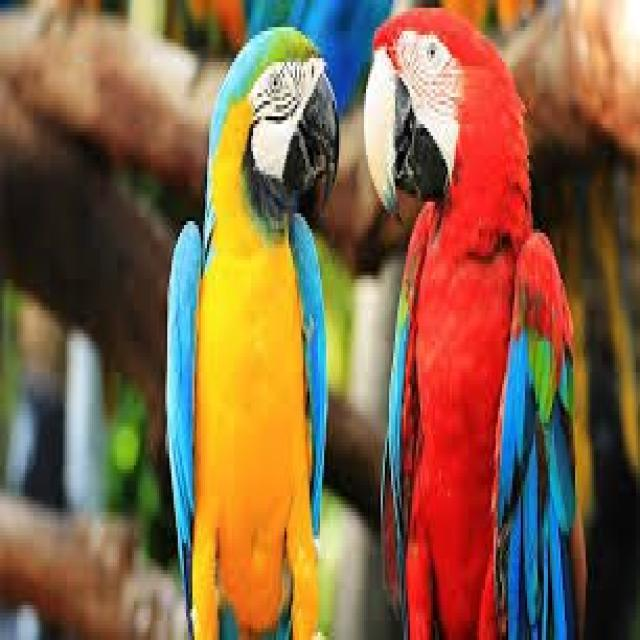Parrot: (363, 5, 575, 640), (161, 19, 335, 640)
